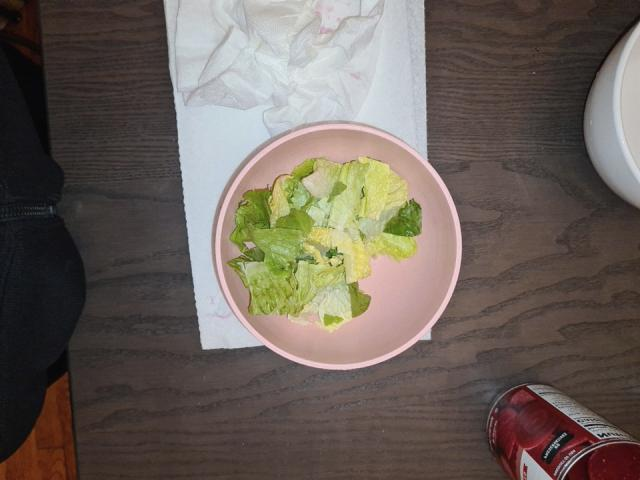kichen waste: (226, 157, 423, 332)
